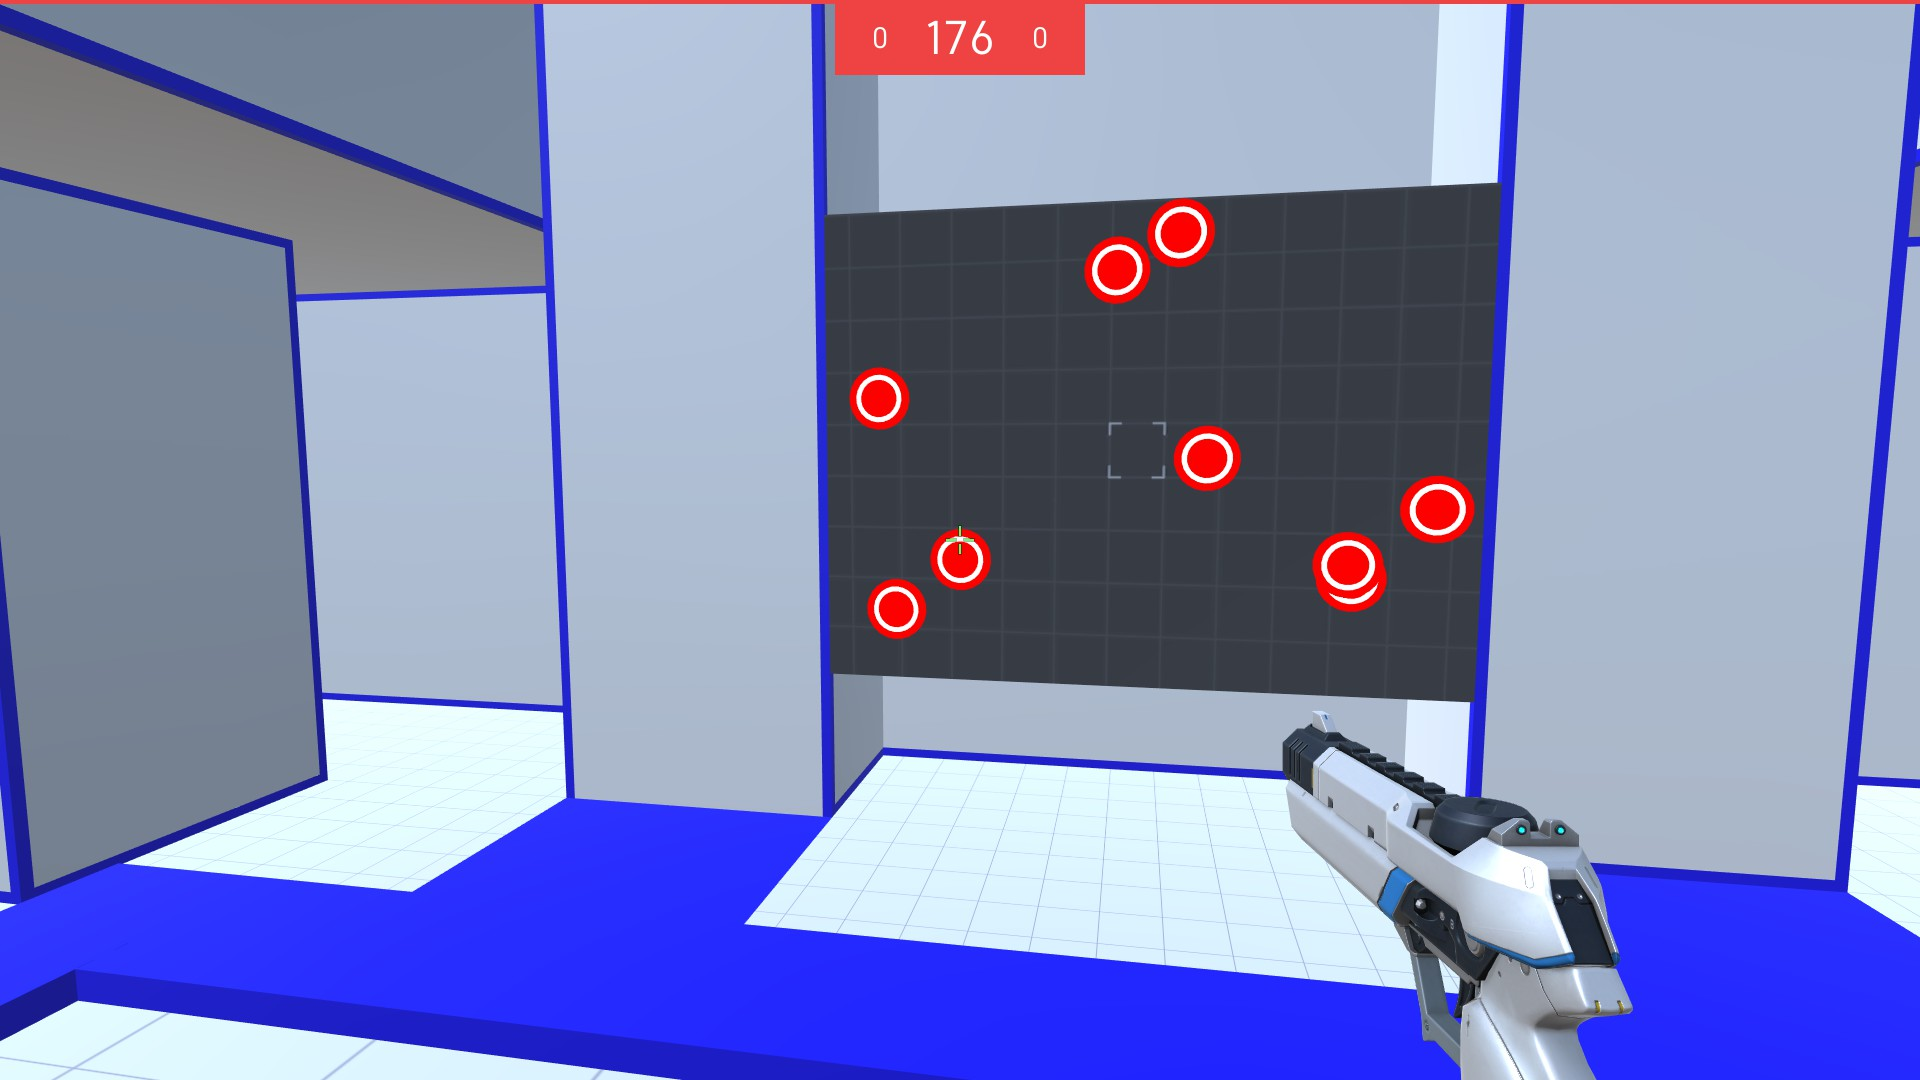target: (1146, 196, 1216, 272), (1080, 235, 1154, 305), (1399, 477, 1476, 545), (1171, 425, 1244, 495), (1308, 531, 1386, 596), (848, 364, 913, 435), (927, 526, 996, 592), (862, 575, 928, 644), (1313, 588, 1385, 613)
